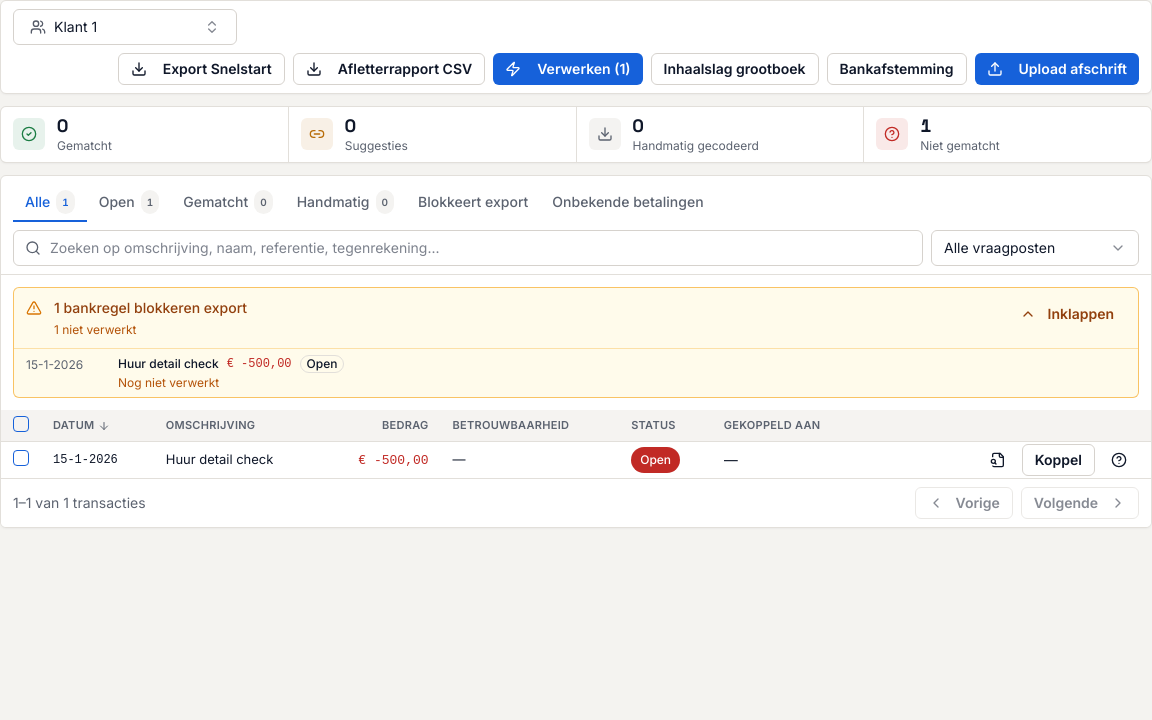
Test: Bank pagina UI › klik op rij opent transactiedetail-Sheet
Step 1. Click the row "15-1-2026 Huur detail check € -500,00 — Open — Koppel" → [85, 460], box [1,442,1151,478]
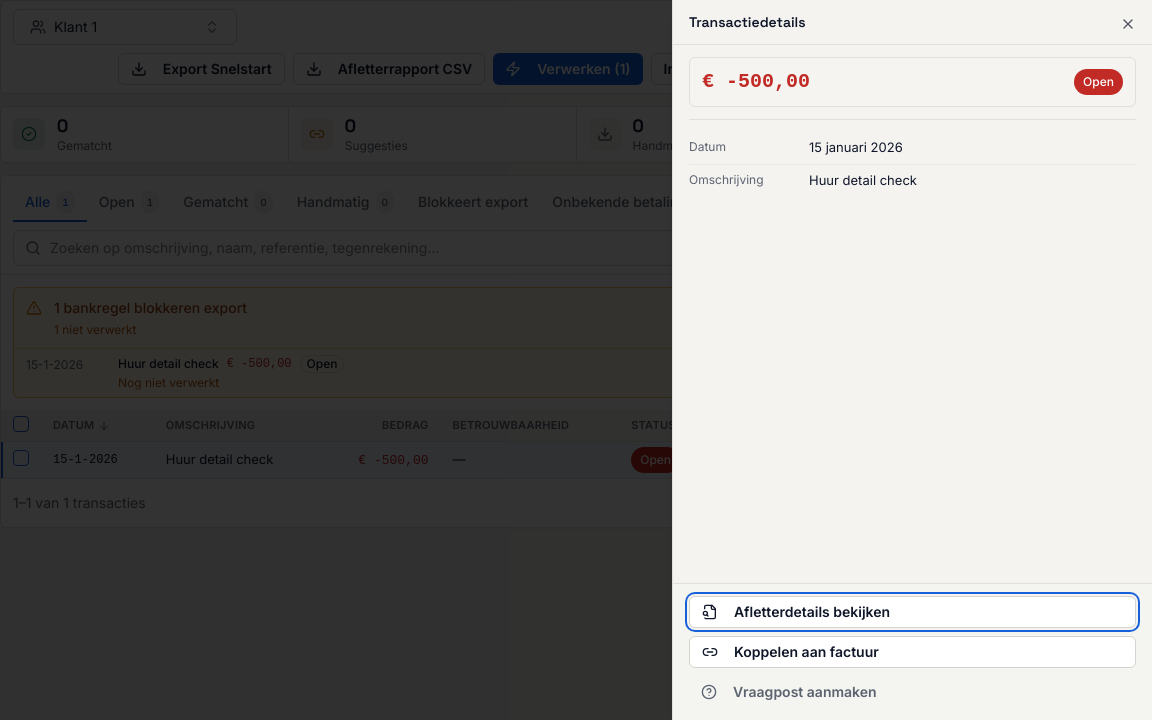
Result: the heading "Transactiedetails" is shown at [689,13,806,31]
